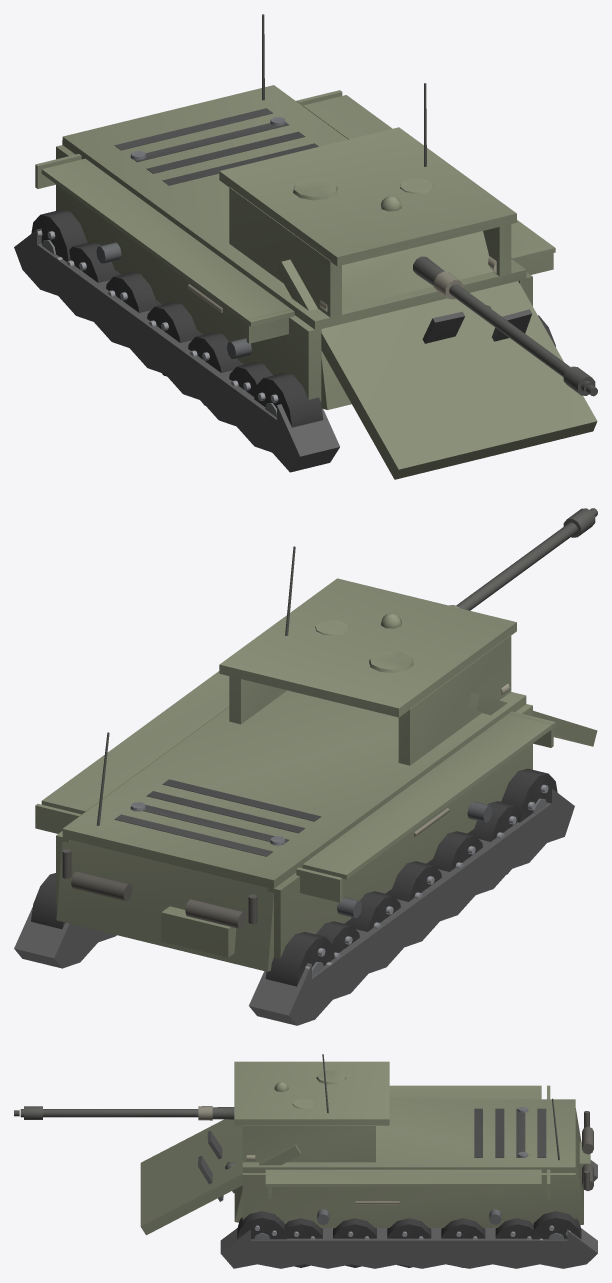
3 renders of one model, top to bottom at view 1: azimuth 30°, elevation 25°; view 2: azimuth 150°, elevation 25°; view 3: azimuth 270°, elevation 25°, orthographic. The views are drawn at different scales.
Parts seen in each view (by area): view 1: glacis, hullSide, hullTop, turretRoof, tracks, turretSide, mantlet, barrel, wheel5, wheel6, wheel2, wheel1 (+4 smaller); view 2: hullTop, hullSide, turretRoof, hullRear, tracks, turretSide, barrel, wheel6, wheel5, glacis, wheel2, wheel3 (+4 smaller); view 3: hullSide, hullTop, tracks, turretRoof, glacis, turretSide, barrel, hullRear, wheel13, wheel12, wheel10, wheel9 (+4 smaller).
Boxes of the visible parts, left/top/right/bottom form: glacis: left=277, top=259, right=597, bottom=479; hullSide: left=35, top=90, right=555, bottom=402; hullTop: left=62, top=85, right=526, bottom=330; turretRoof: left=219, top=83, right=516, bottom=266; tracks: left=14, top=228, right=339, bottom=472; turretSide: left=229, top=187, right=511, bottom=325; mantlet: left=342, top=231, right=492, bottom=308; barrel: left=413, top=256, right=597, bottom=396; wheel5: left=254, top=373, right=323, bottom=427; wheel6: left=31, top=209, right=87, bottom=261; wheel2: left=147, top=302, right=203, bottom=376; wheel1: left=106, top=272, right=162, bottom=312; hullTop: left=62, top=690, right=526, bottom=889; hullSide: left=35, top=671, right=555, bottom=958; turretRoof: left=219, top=546, right=516, bottom=717; hullRear: left=56, top=732, right=275, bottom=971; tracks: left=14, top=787, right=574, bottom=1025; turretSide: left=229, top=635, right=511, bottom=765; barrel: left=449, top=508, right=597, bottom=610; wheel6: left=265, top=932, right=334, bottom=986; wheel5: left=501, top=768, right=557, bottom=822; glacis: left=467, top=692, right=597, bottom=746; wheel2: left=385, top=861, right=441, bottom=901; wheel3: left=426, top=831, right=482, bottom=871; hullSide: left=242, top=1085, right=575, bottom=1227; hullTop: left=242, top=1099, right=575, bottom=1172; tracks: left=220, top=1160, right=597, bottom=1268; turretRoof: left=234, top=1054, right=389, bottom=1125; glacis: left=140, top=1119, right=300, bottom=1235; turretSide: left=242, top=1125, right=375, bottom=1162; barrel: left=14, top=1106, right=234, bottom=1120; hullRear: left=552, top=1098, right=593, bottom=1225; wheel13: left=531, top=1211, right=581, bottom=1240; wheel12: left=237, top=1211, right=286, bottom=1239; wheel10: left=333, top=1218, right=376, bottom=1267; wheel9: left=387, top=1218, right=431, bottom=1267.
Size of the model in its own units: 4.18 by 3.83 by 10.52.
